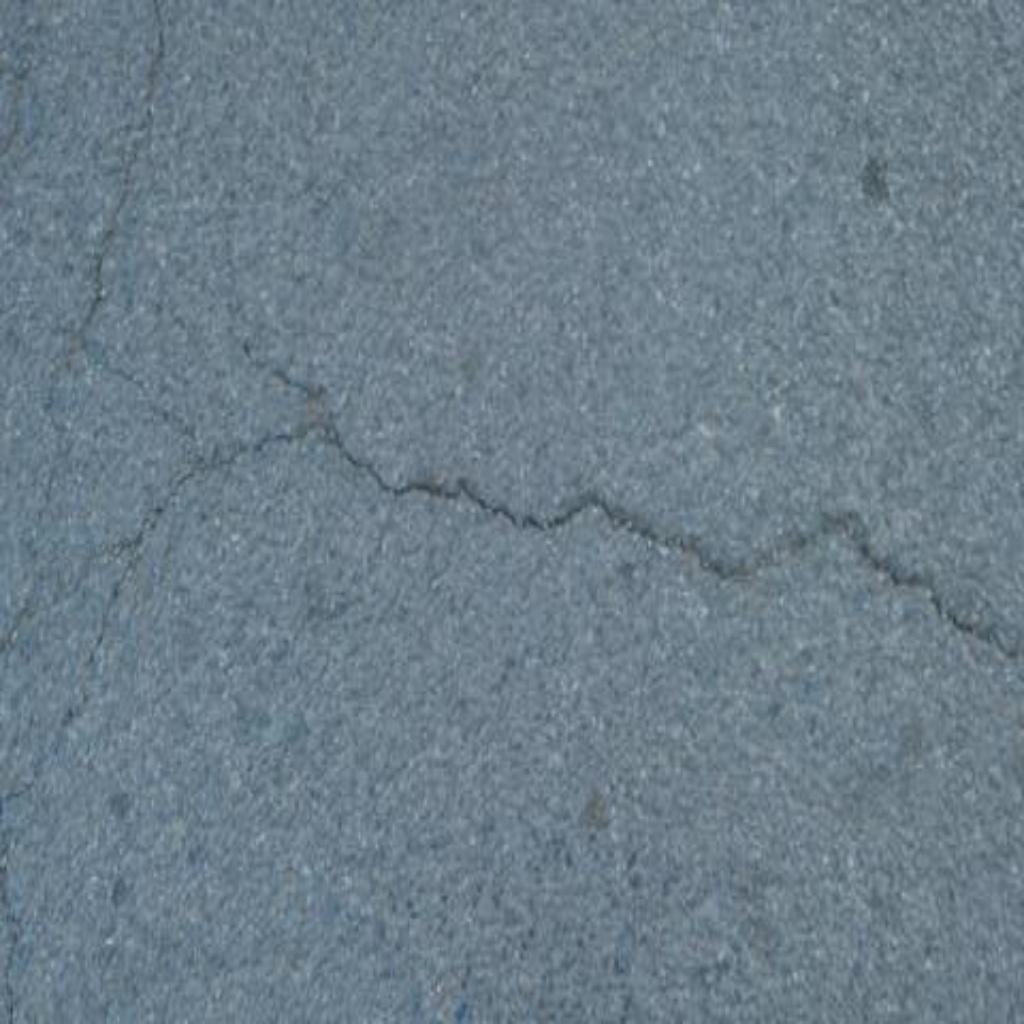Crack: (1, 413, 1024, 801), (83, 1, 216, 467)
